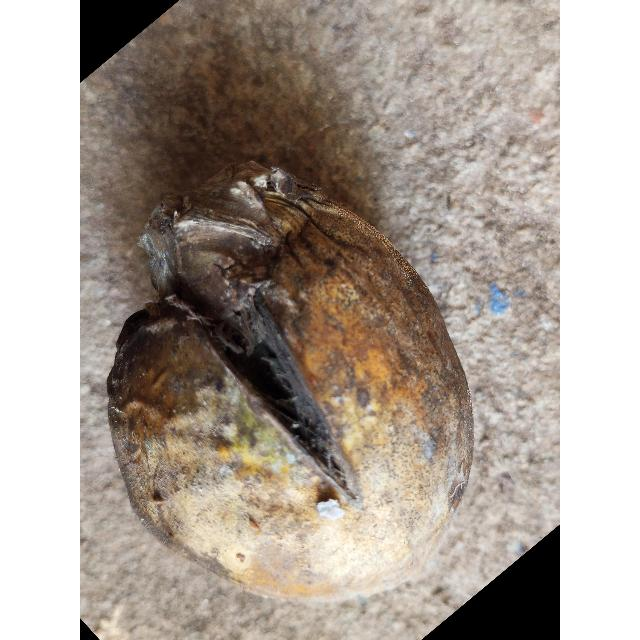damaged: (106, 169, 474, 600)
